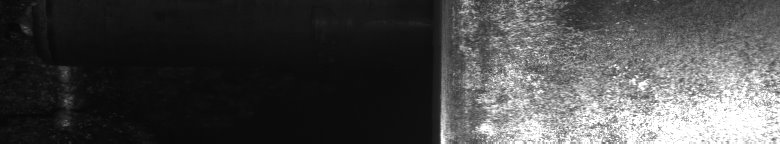kb: (452, 4, 776, 136)
